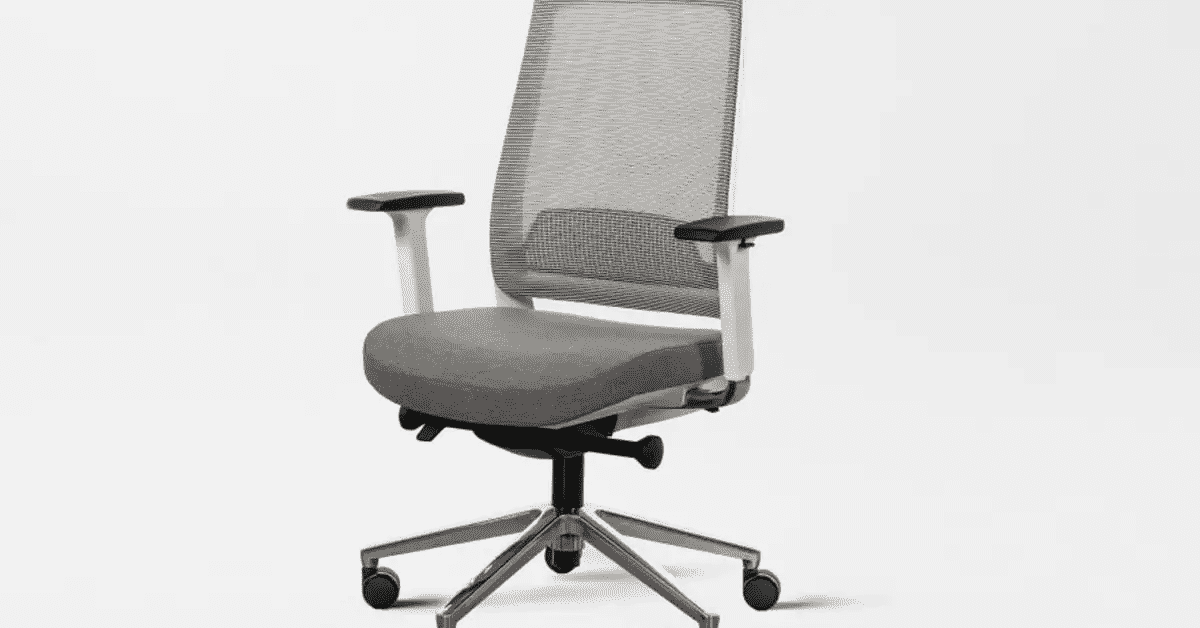chair: (360, 5, 781, 628)
